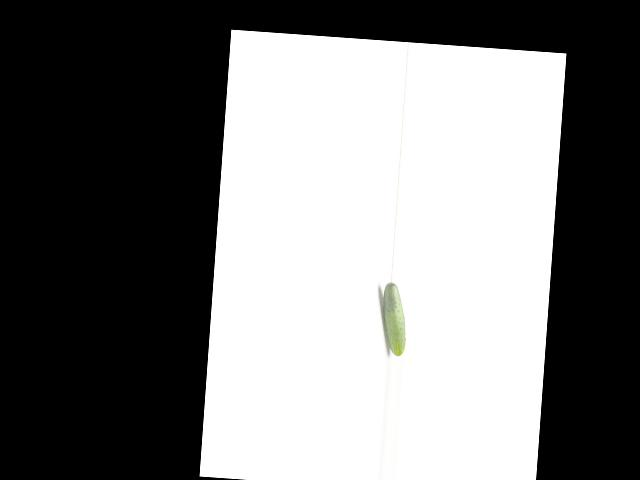cucumber: (378, 280, 409, 356)
